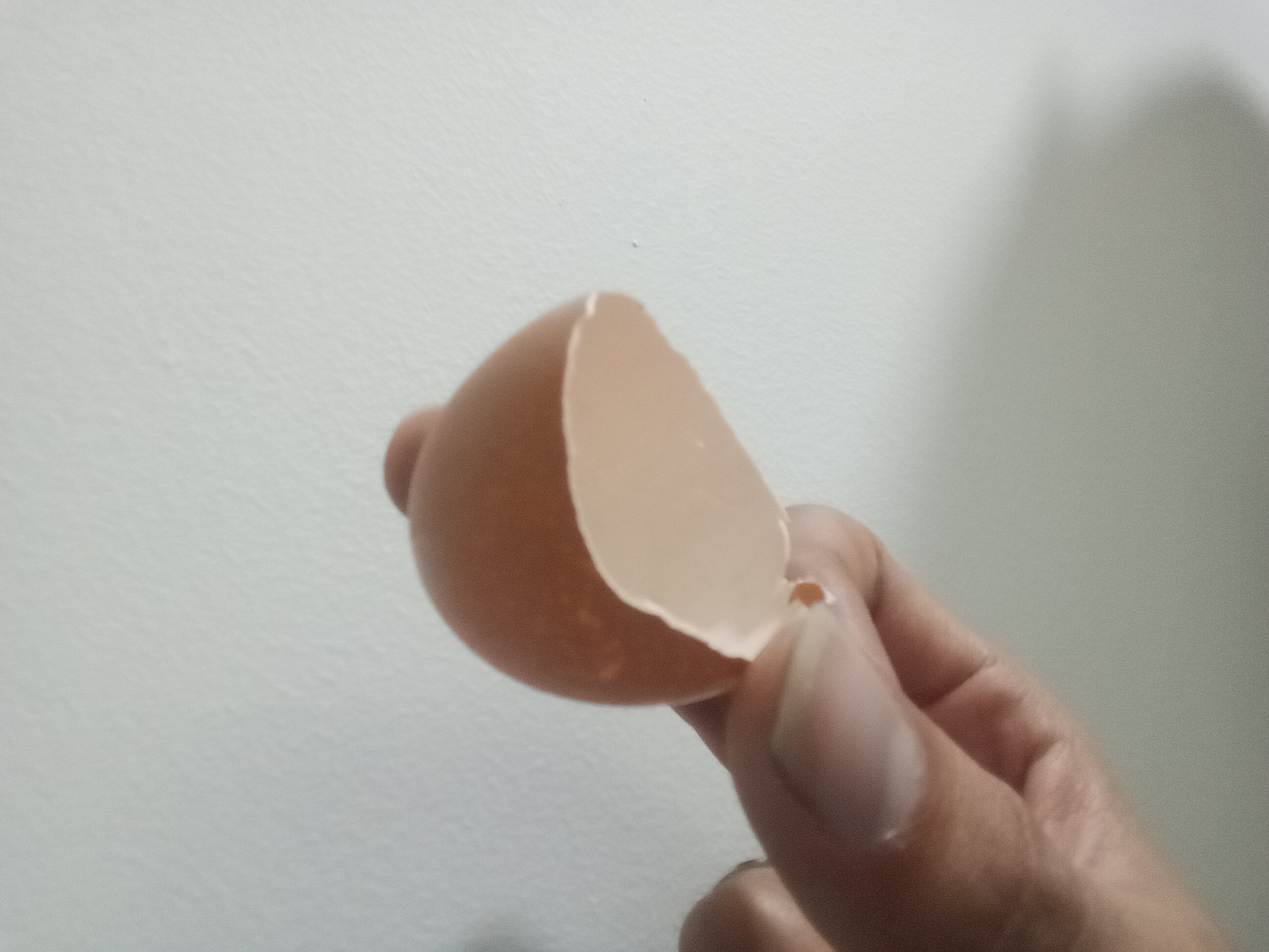Organico: (410, 295, 794, 706)
